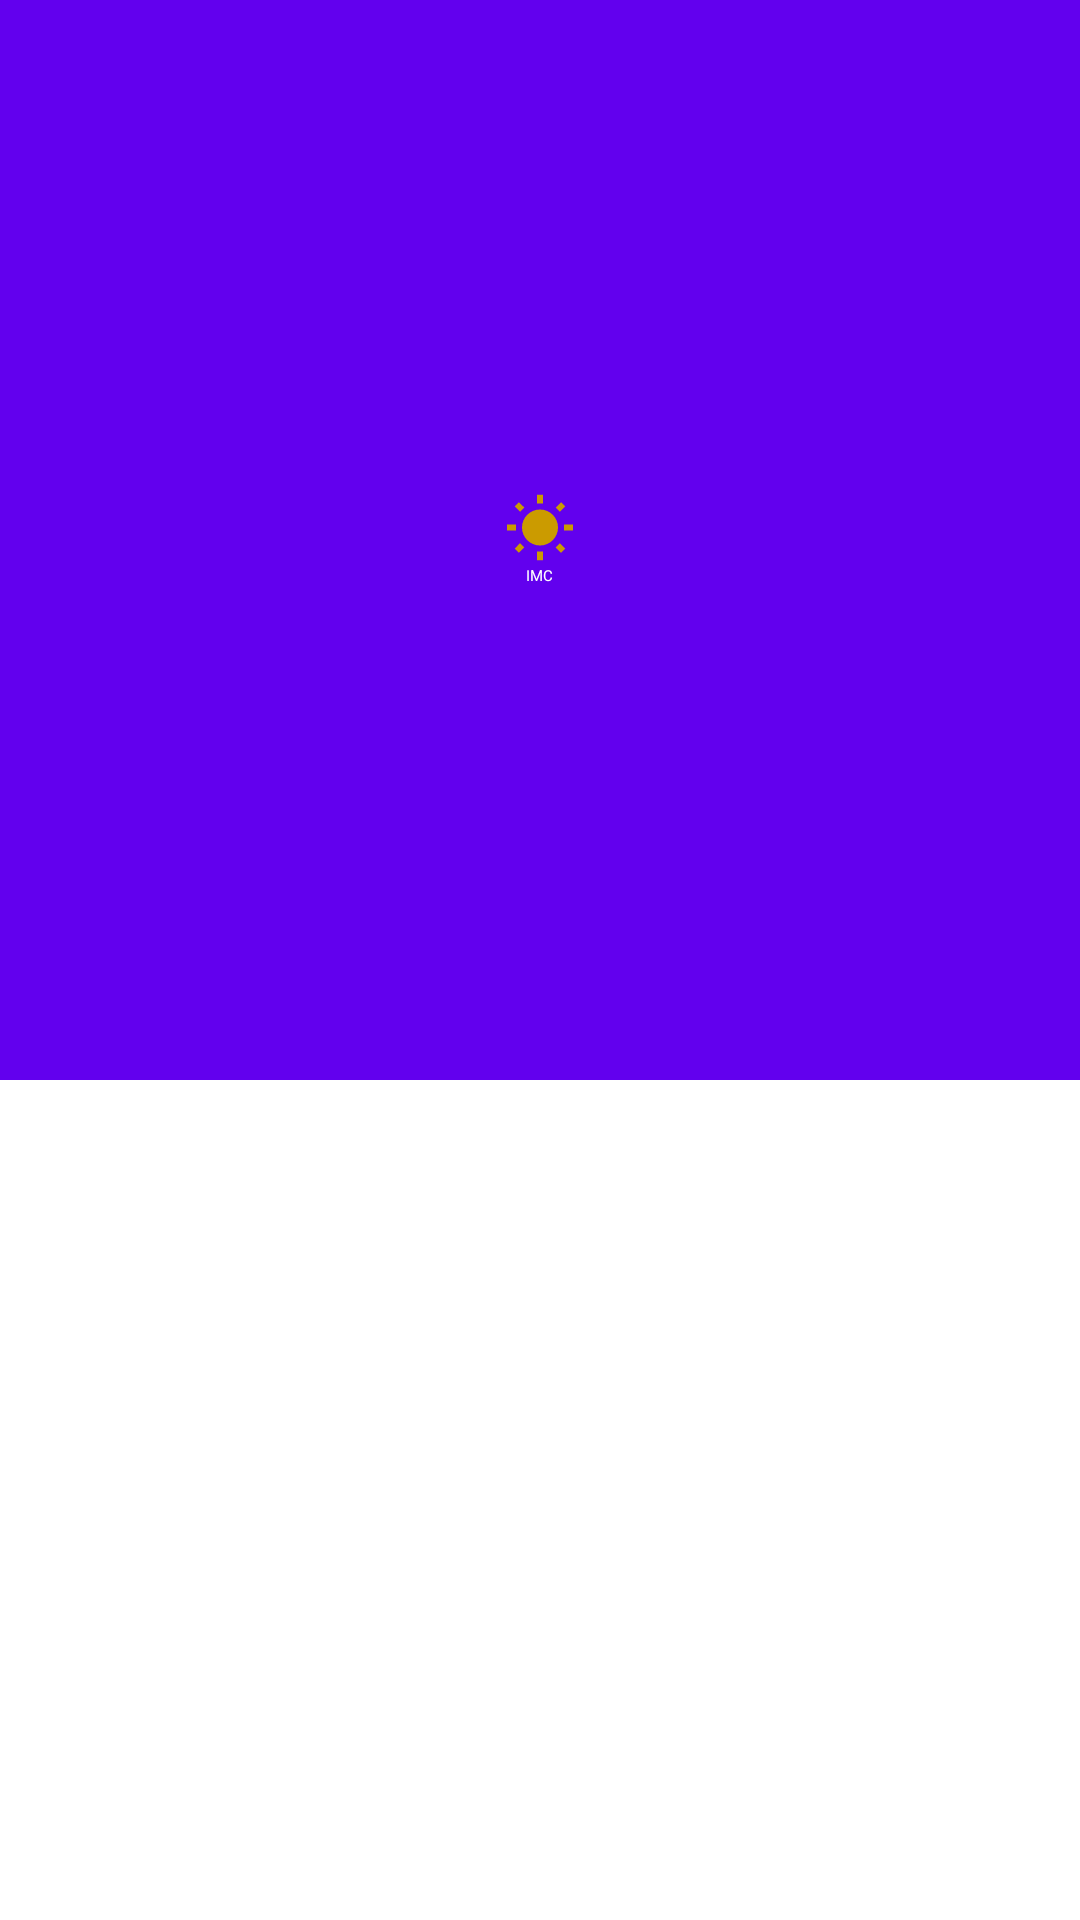

Named icons in this screenshot (1080px×1920px) and their centers, (x,y):
sunny: (540,527)
